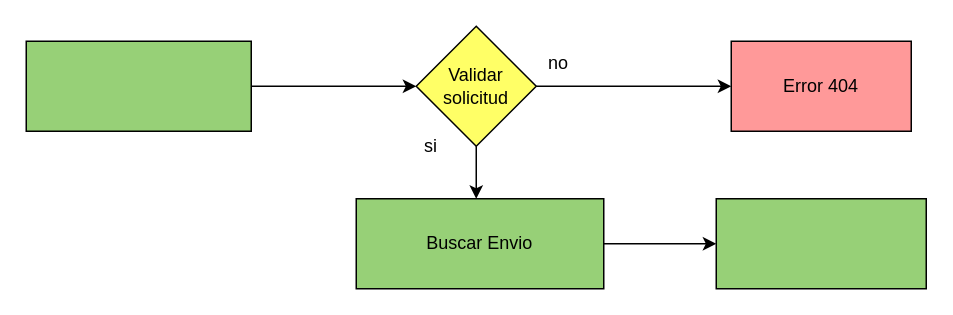
Image size: 953x315. Some labels were removed from this diagram. Here are the shapes that lost their labels. From the top down, the centre of each, then its label:
point 138,85: Solicitud de eliminar un Envio(NumeroGuia)
point 820,243: Envio Eliminado con exito
